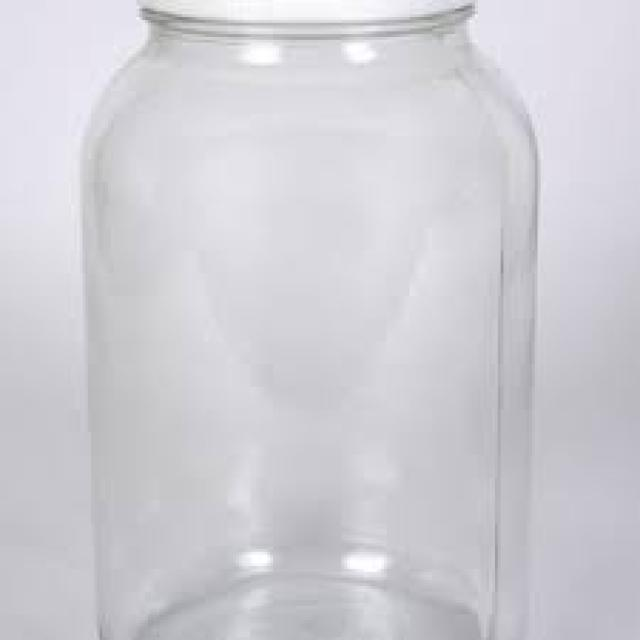glass: (74, 9, 532, 637)
